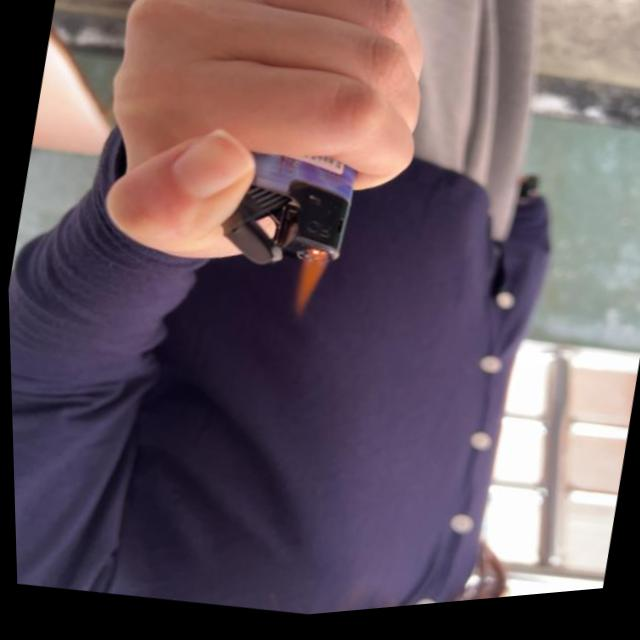Fire: (285, 248, 333, 332)
